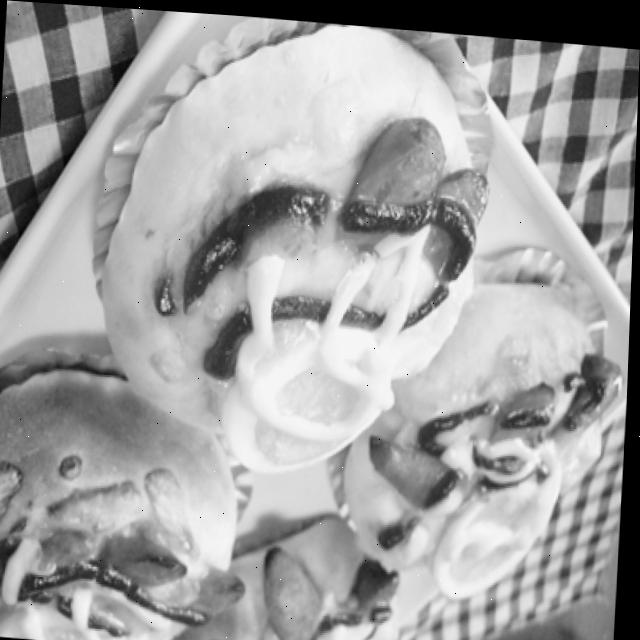三明治: (81, 5, 495, 494)
